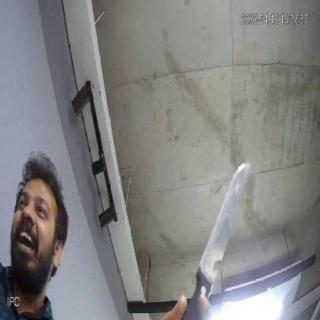knife: (184, 164, 251, 290)
